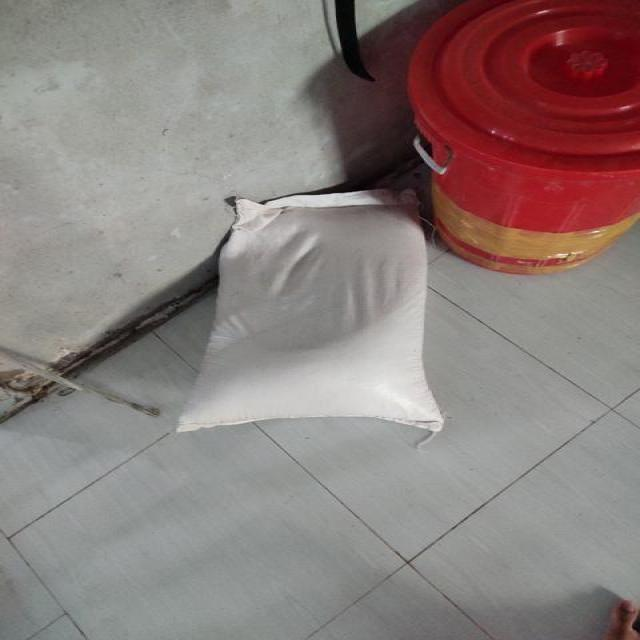gunny_bag: (177, 190, 444, 432)
